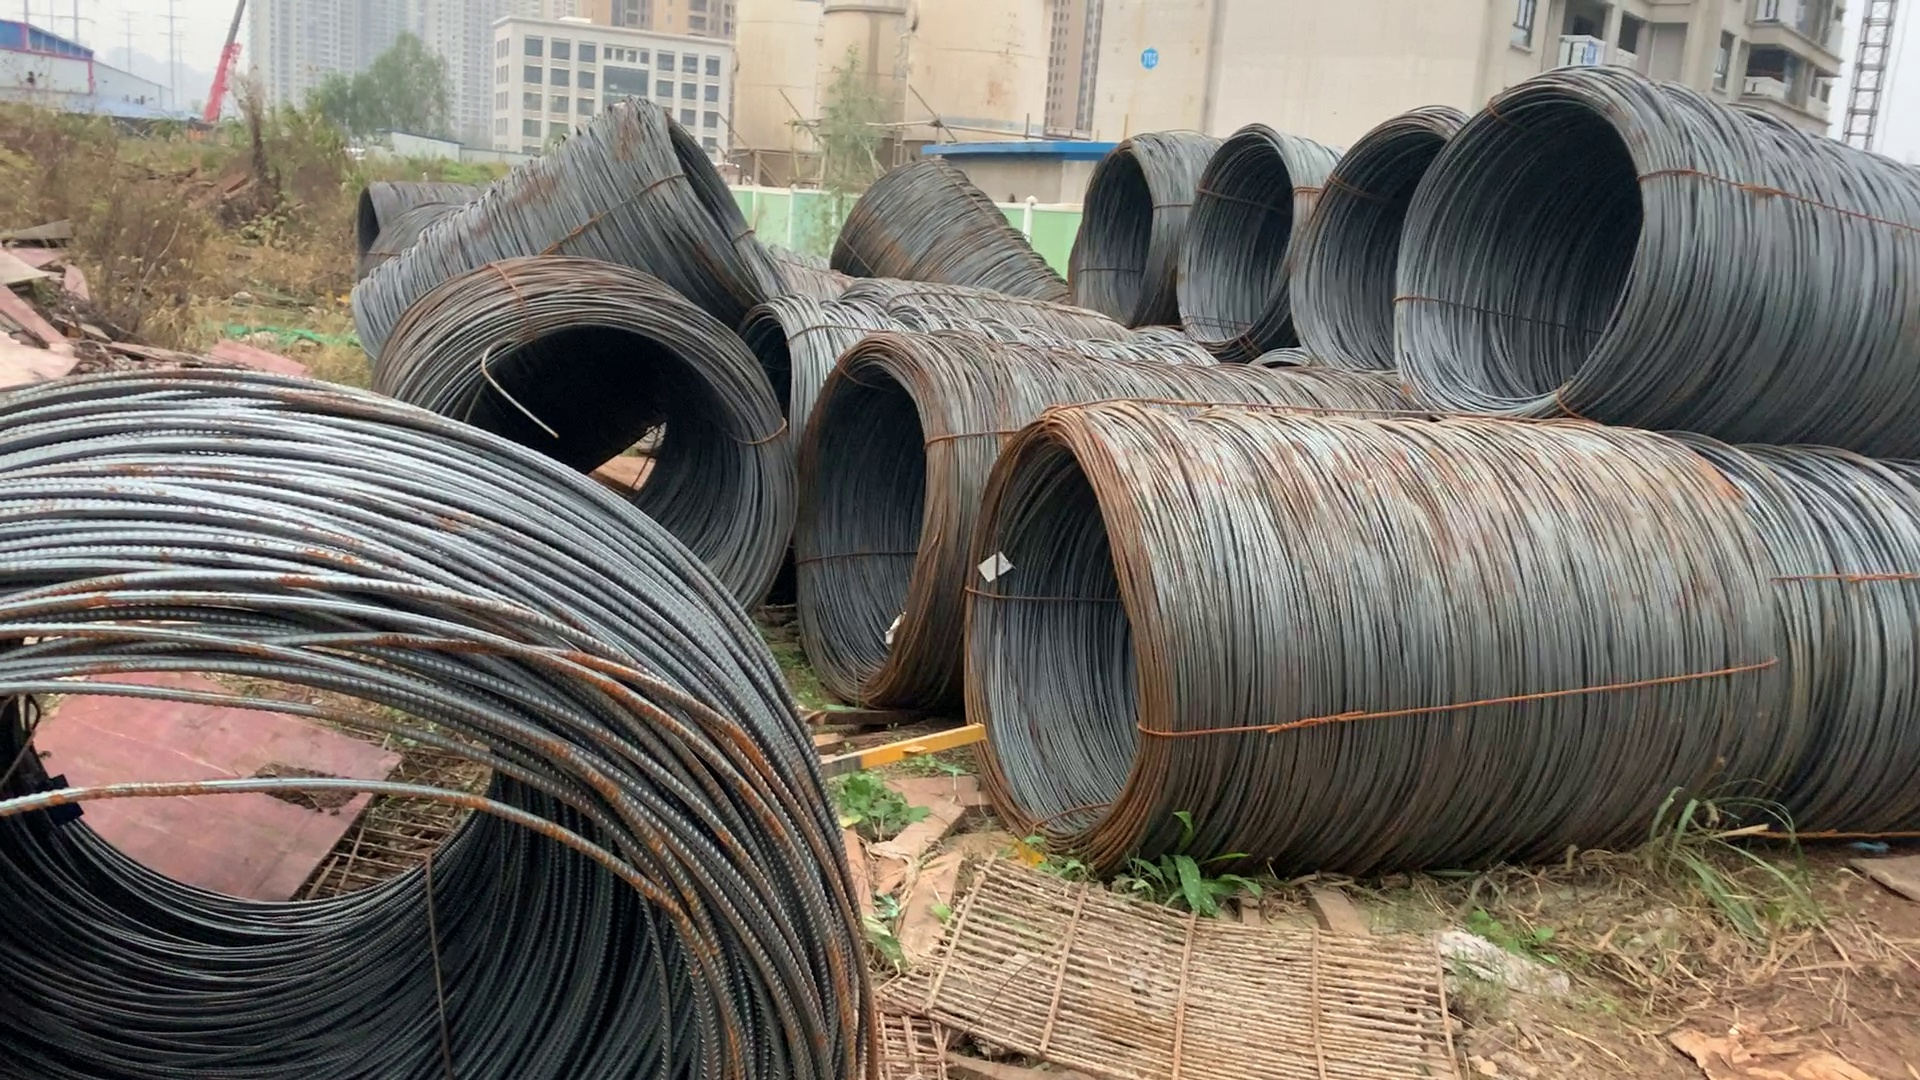coil: (1, 566, 932, 1068), (368, 318, 807, 649), (975, 413, 1189, 855), (1404, 82, 1654, 415), (802, 332, 960, 707), (1302, 99, 1465, 388), (638, 104, 814, 338), (1174, 124, 1304, 349), (1063, 135, 1154, 327), (349, 182, 402, 287)
